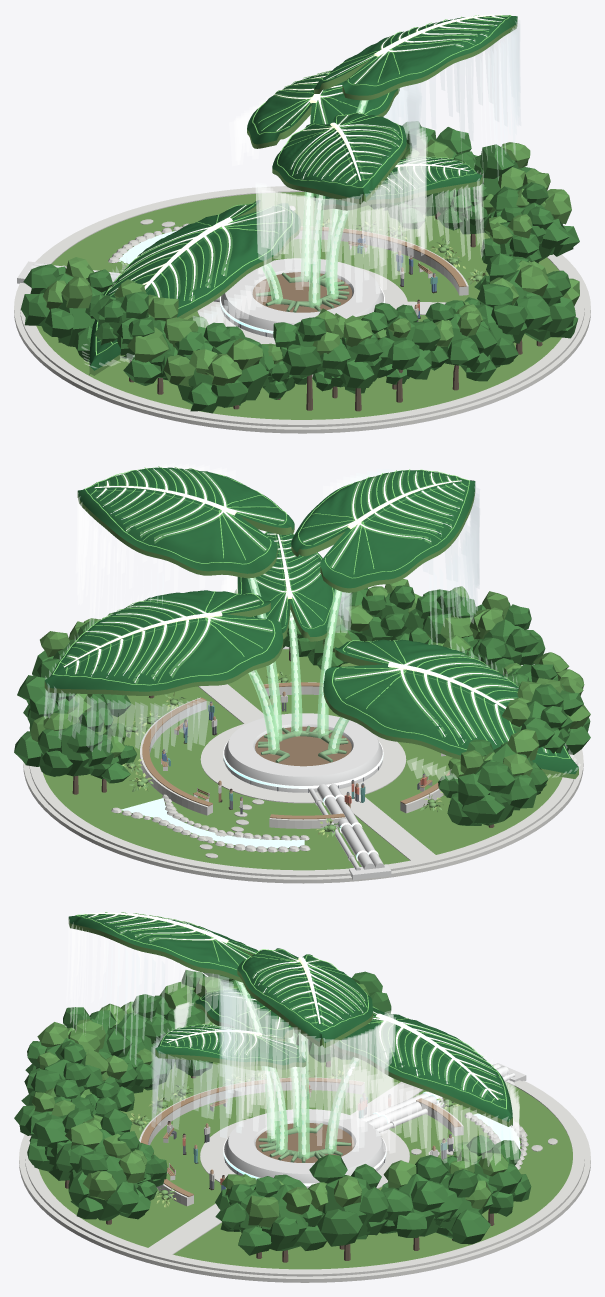
Rendered from q05b-breathing-leaf-2127.glb.
3 views of the same model, one above another, from view 1: azimuth 30°, elevation 25°; view 2: azimuth 150°, elevation 25°; view 3: azimuth 270°, elevation 25° (orthographic). The views are drawn at different scales.
Visible parts, largest first — view 1: q05b_crown, q05b_leaf, q05b_lawn, q05b_mist_a, q05b_mist_b, q05b_crown_l, q05b_plinth, q05b_leaf_v, q05b_ring, q05b_vein, q05b_vein_t, q05b_leaf_rim (+8 smaller); view 2: q05b_leaf, q05b_lawn, q05b_crown, q05b_plinth, q05b_leaf_v, q05b_crown_l, q05b_mist_a, q05b_ring, q05b_mist_b, q05b_vein, q05b_vein_t, q05b_leaf_rim (+10 smaller); view 3: q05b_crown, q05b_lawn, q05b_mist_b, q05b_mist_a, q05b_leaf, q05b_plinth, q05b_crown_l, q05b_ring, q05b_leaf_v, q05b_stem, q05b_vein, q05b_vein_t (+9 smaller).
Boxes of the visible parts, bbox=[...] form: q05b_crown: bbox=[21, 121, 579, 413]; q05b_leaf: bbox=[89, 15, 517, 370]; q05b_lawn: bbox=[36, 192, 561, 419]; q05b_mist_a: bbox=[81, 18, 520, 367]; q05b_mist_b: bbox=[82, 21, 520, 366]; q05b_crown_l: bbox=[43, 139, 579, 387]; q05b_plinth: bbox=[14, 186, 590, 433]; q05b_leaf_v: bbox=[108, 16, 504, 342]; q05b_ring: bbox=[17, 258, 383, 337]; q05b_vein: bbox=[109, 14, 504, 301]; q05b_vein_t: bbox=[95, 15, 511, 355]; q05b_leaf_rim: bbox=[89, 17, 517, 375]; q05b_leaf: bbox=[44, 467, 578, 774]; q05b_lawn: bbox=[43, 649, 562, 870]; q05b_crown: bbox=[14, 585, 590, 825]; q05b_plinth: bbox=[23, 646, 583, 883]; q05b_leaf_v: bbox=[62, 468, 548, 753]; q05b_crown_l: bbox=[30, 579, 590, 777]; q05b_mist_a: bbox=[44, 463, 580, 780]; q05b_ring: bbox=[224, 713, 391, 880]; q05b_mist_b: bbox=[44, 464, 578, 780]; q05b_vein: bbox=[63, 467, 546, 752]; q05b_vein_t: bbox=[52, 466, 570, 758]; q05b_leaf_rim: bbox=[44, 489, 578, 778]; q05b_crown: bbox=[14, 970, 531, 1255]; q05b_lawn: bbox=[38, 1052, 572, 1269]; q05b_mist_b: bbox=[69, 922, 519, 1166]; q05b_mist_a: bbox=[66, 919, 519, 1167]; q05b_leaf: bbox=[68, 914, 512, 1121]; q05b_plinth: bbox=[19, 1080, 590, 1282]; q05b_crown_l: bbox=[31, 976, 508, 1227]; q05b_ring: bbox=[224, 1063, 526, 1188]; q05b_leaf_v: bbox=[88, 914, 502, 1101]; q05b_stem: bbox=[235, 980, 358, 1159]; q05b_vein: bbox=[85, 912, 502, 1099]; q05b_vein_t: bbox=[75, 912, 506, 1109].
Size of the model in its own units: 49.21 by 23.4 by 48.42.
